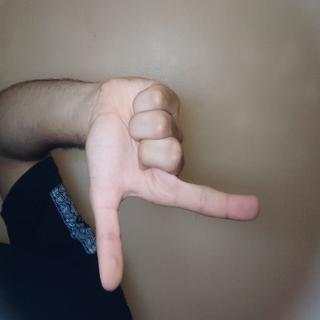LAAM: (49, 75, 222, 320)
